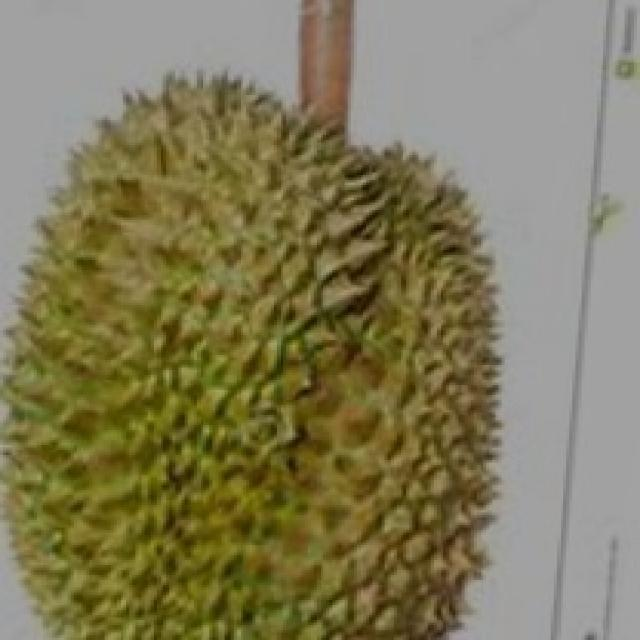fruit: (0, 30, 351, 478), (218, 245, 557, 640), (3, 285, 323, 640)
